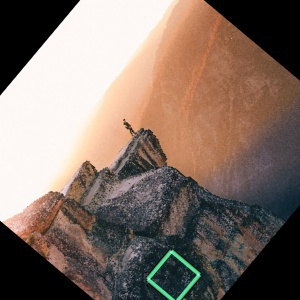square: (144, 248, 204, 300)
